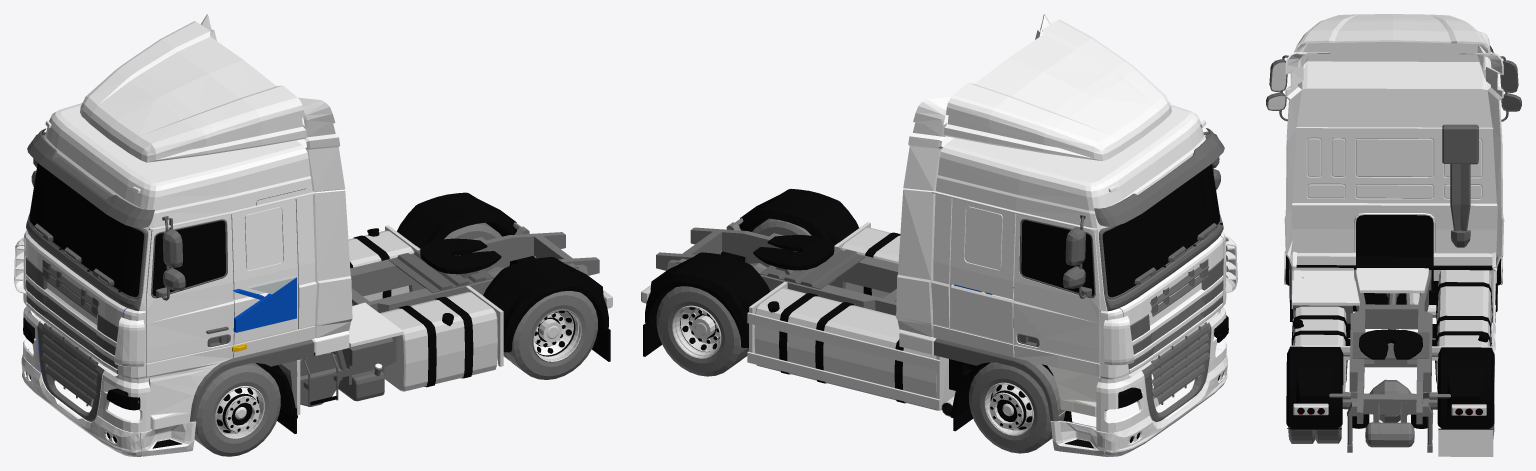
File: obstacle_truck.glb
The picture shows the model from 3 angles, left to right: view 1: azimuth 30°, elevation 25°; view 2: azimuth 150°, elevation 25°; view 3: azimuth 270°, elevation 25°; orthographic projection. The views are drawn at different scales.
Visible parts, largest first — view 1: head; view 2: head; view 3: head.
Boxes of the visible parts, box(x1,y1,x2,y2) form: head: box(14, 14, 612, 456); head: box(641, 14, 1237, 456); head: box(1266, 14, 1521, 456).
Bounding box in the file's own units: 3.67 × 2.31 × 1.82.
2 materials, 2 textured.
